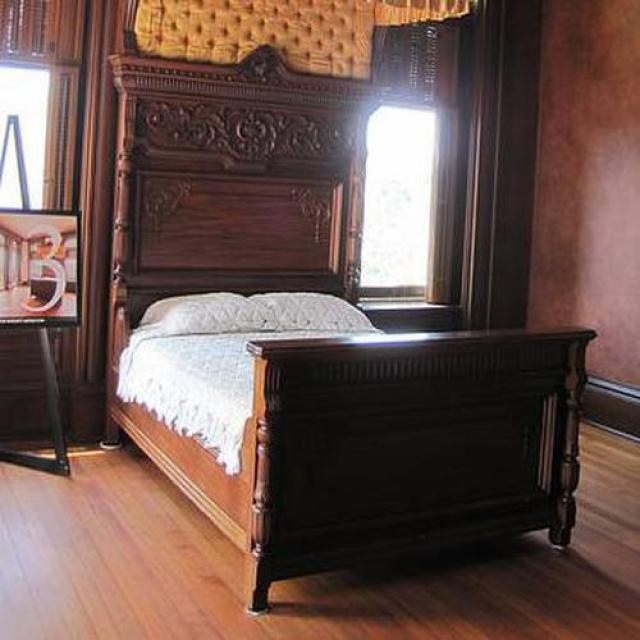bed: (108, 56, 596, 614)
